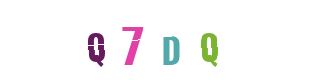7: (91, 0, 171, 80)
D: (120, 0, 200, 80)
Q: (56, 0, 136, 80), (152, 0, 232, 80)
